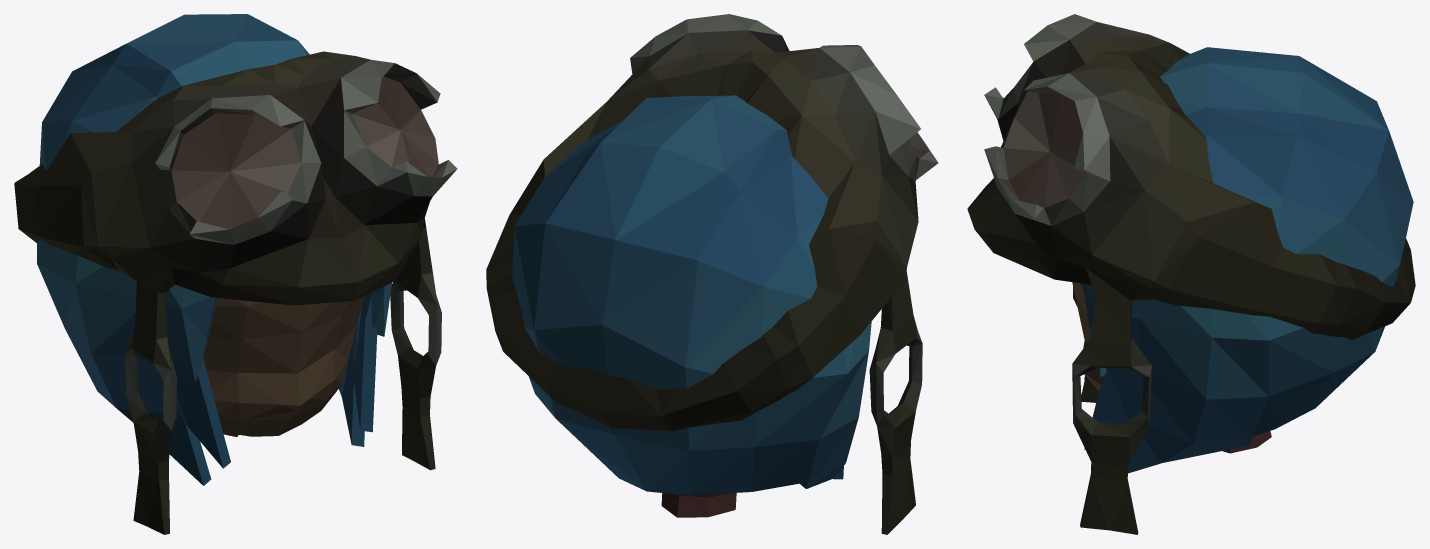
The model's file is helm_darkskin_bob_blue_goggles.fbx.
3 views of the same model, side by side, from view 1: azimuth 30°, elevation 25°; view 2: azimuth 150°, elevation 25°; view 3: azimuth 270°, elevation 25° (orthographic). The views are drawn at different scales.
Visible parts, largest first — view 1: helm_darkskin_bob_blue_goggles; view 2: helm_darkskin_bob_blue_goggles; view 3: helm_darkskin_bob_blue_goggles.
Boxes of the visible parts, x1=… form: helm_darkskin_bob_blue_goggles: x1=14, y1=14, x2=457, y2=534; helm_darkskin_bob_blue_goggles: x1=486, y1=14, x2=938, y2=534; helm_darkskin_bob_blue_goggles: x1=967, y1=14, x2=1415, y2=534.
Size of the model in its own units: 1.22 by 1.45 by 1.42.
